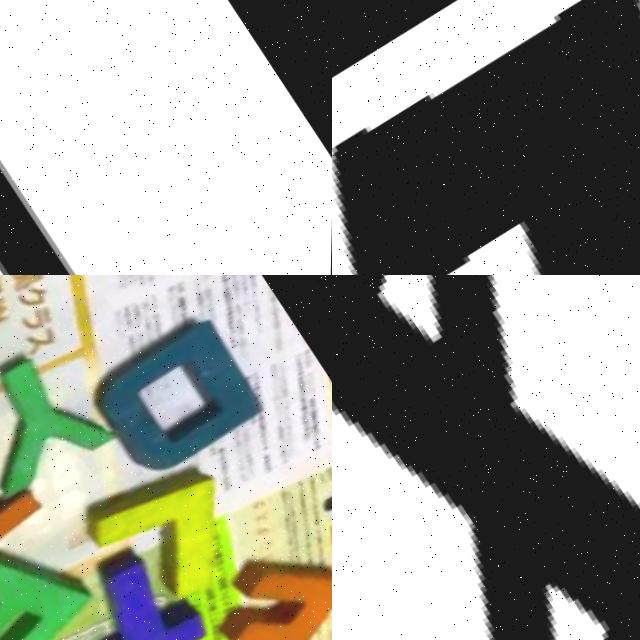1: (0, 0, 286, 275)
D: (78, 298, 267, 490)
E: (143, 504, 332, 640)
F: (0, 506, 102, 640)
I: (0, 402, 45, 609)
L: (332, 0, 640, 275), (73, 423, 269, 624)
T: (37, 511, 220, 640)
X: (332, 275, 640, 640)
Y: (0, 317, 121, 499)
